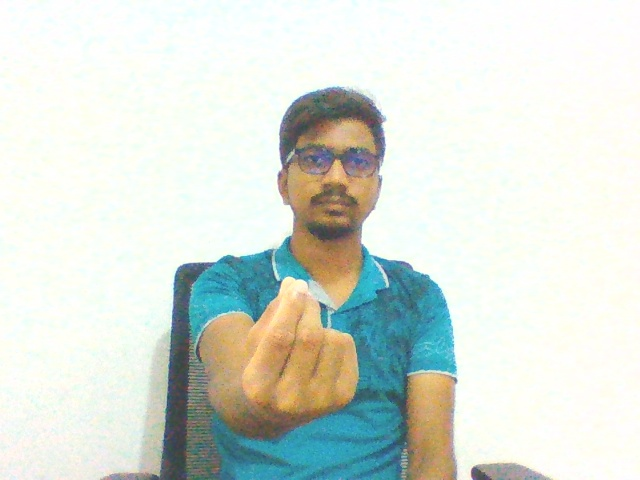dog: (230, 273, 366, 433)
